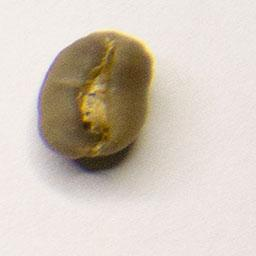peaberry: (35, 28, 156, 165)
